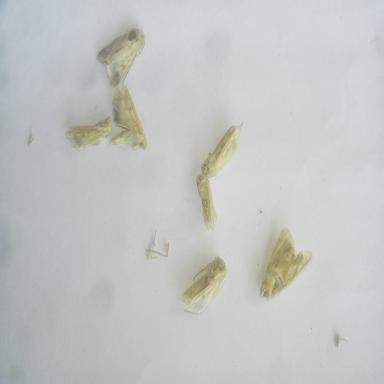abw: (258, 223, 316, 304), (94, 25, 148, 90), (178, 253, 231, 319), (198, 116, 248, 181), (107, 84, 150, 158), (190, 169, 223, 235), (63, 113, 114, 154)
